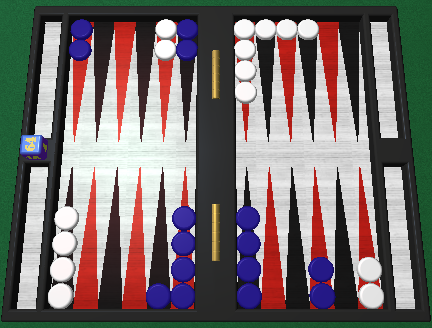checker: (358, 282, 384, 307), (356, 256, 382, 281), (170, 282, 195, 308), (309, 257, 334, 282), (171, 231, 195, 256), (53, 205, 77, 229), (51, 230, 75, 254), (50, 256, 74, 280), (48, 283, 72, 307), (172, 258, 196, 282), (309, 283, 333, 307), (146, 283, 170, 307), (235, 205, 259, 229), (236, 231, 260, 255), (236, 257, 260, 281), (237, 284, 261, 308), (172, 206, 195, 230), (234, 79, 258, 102), (68, 38, 92, 60), (296, 19, 319, 40), (275, 18, 297, 39), (234, 59, 256, 80), (233, 38, 255, 59), (233, 18, 255, 39), (255, 18, 277, 39), (154, 39, 176, 60), (155, 18, 177, 39), (176, 38, 197, 60), (177, 19, 199, 40), (70, 17, 92, 38)
